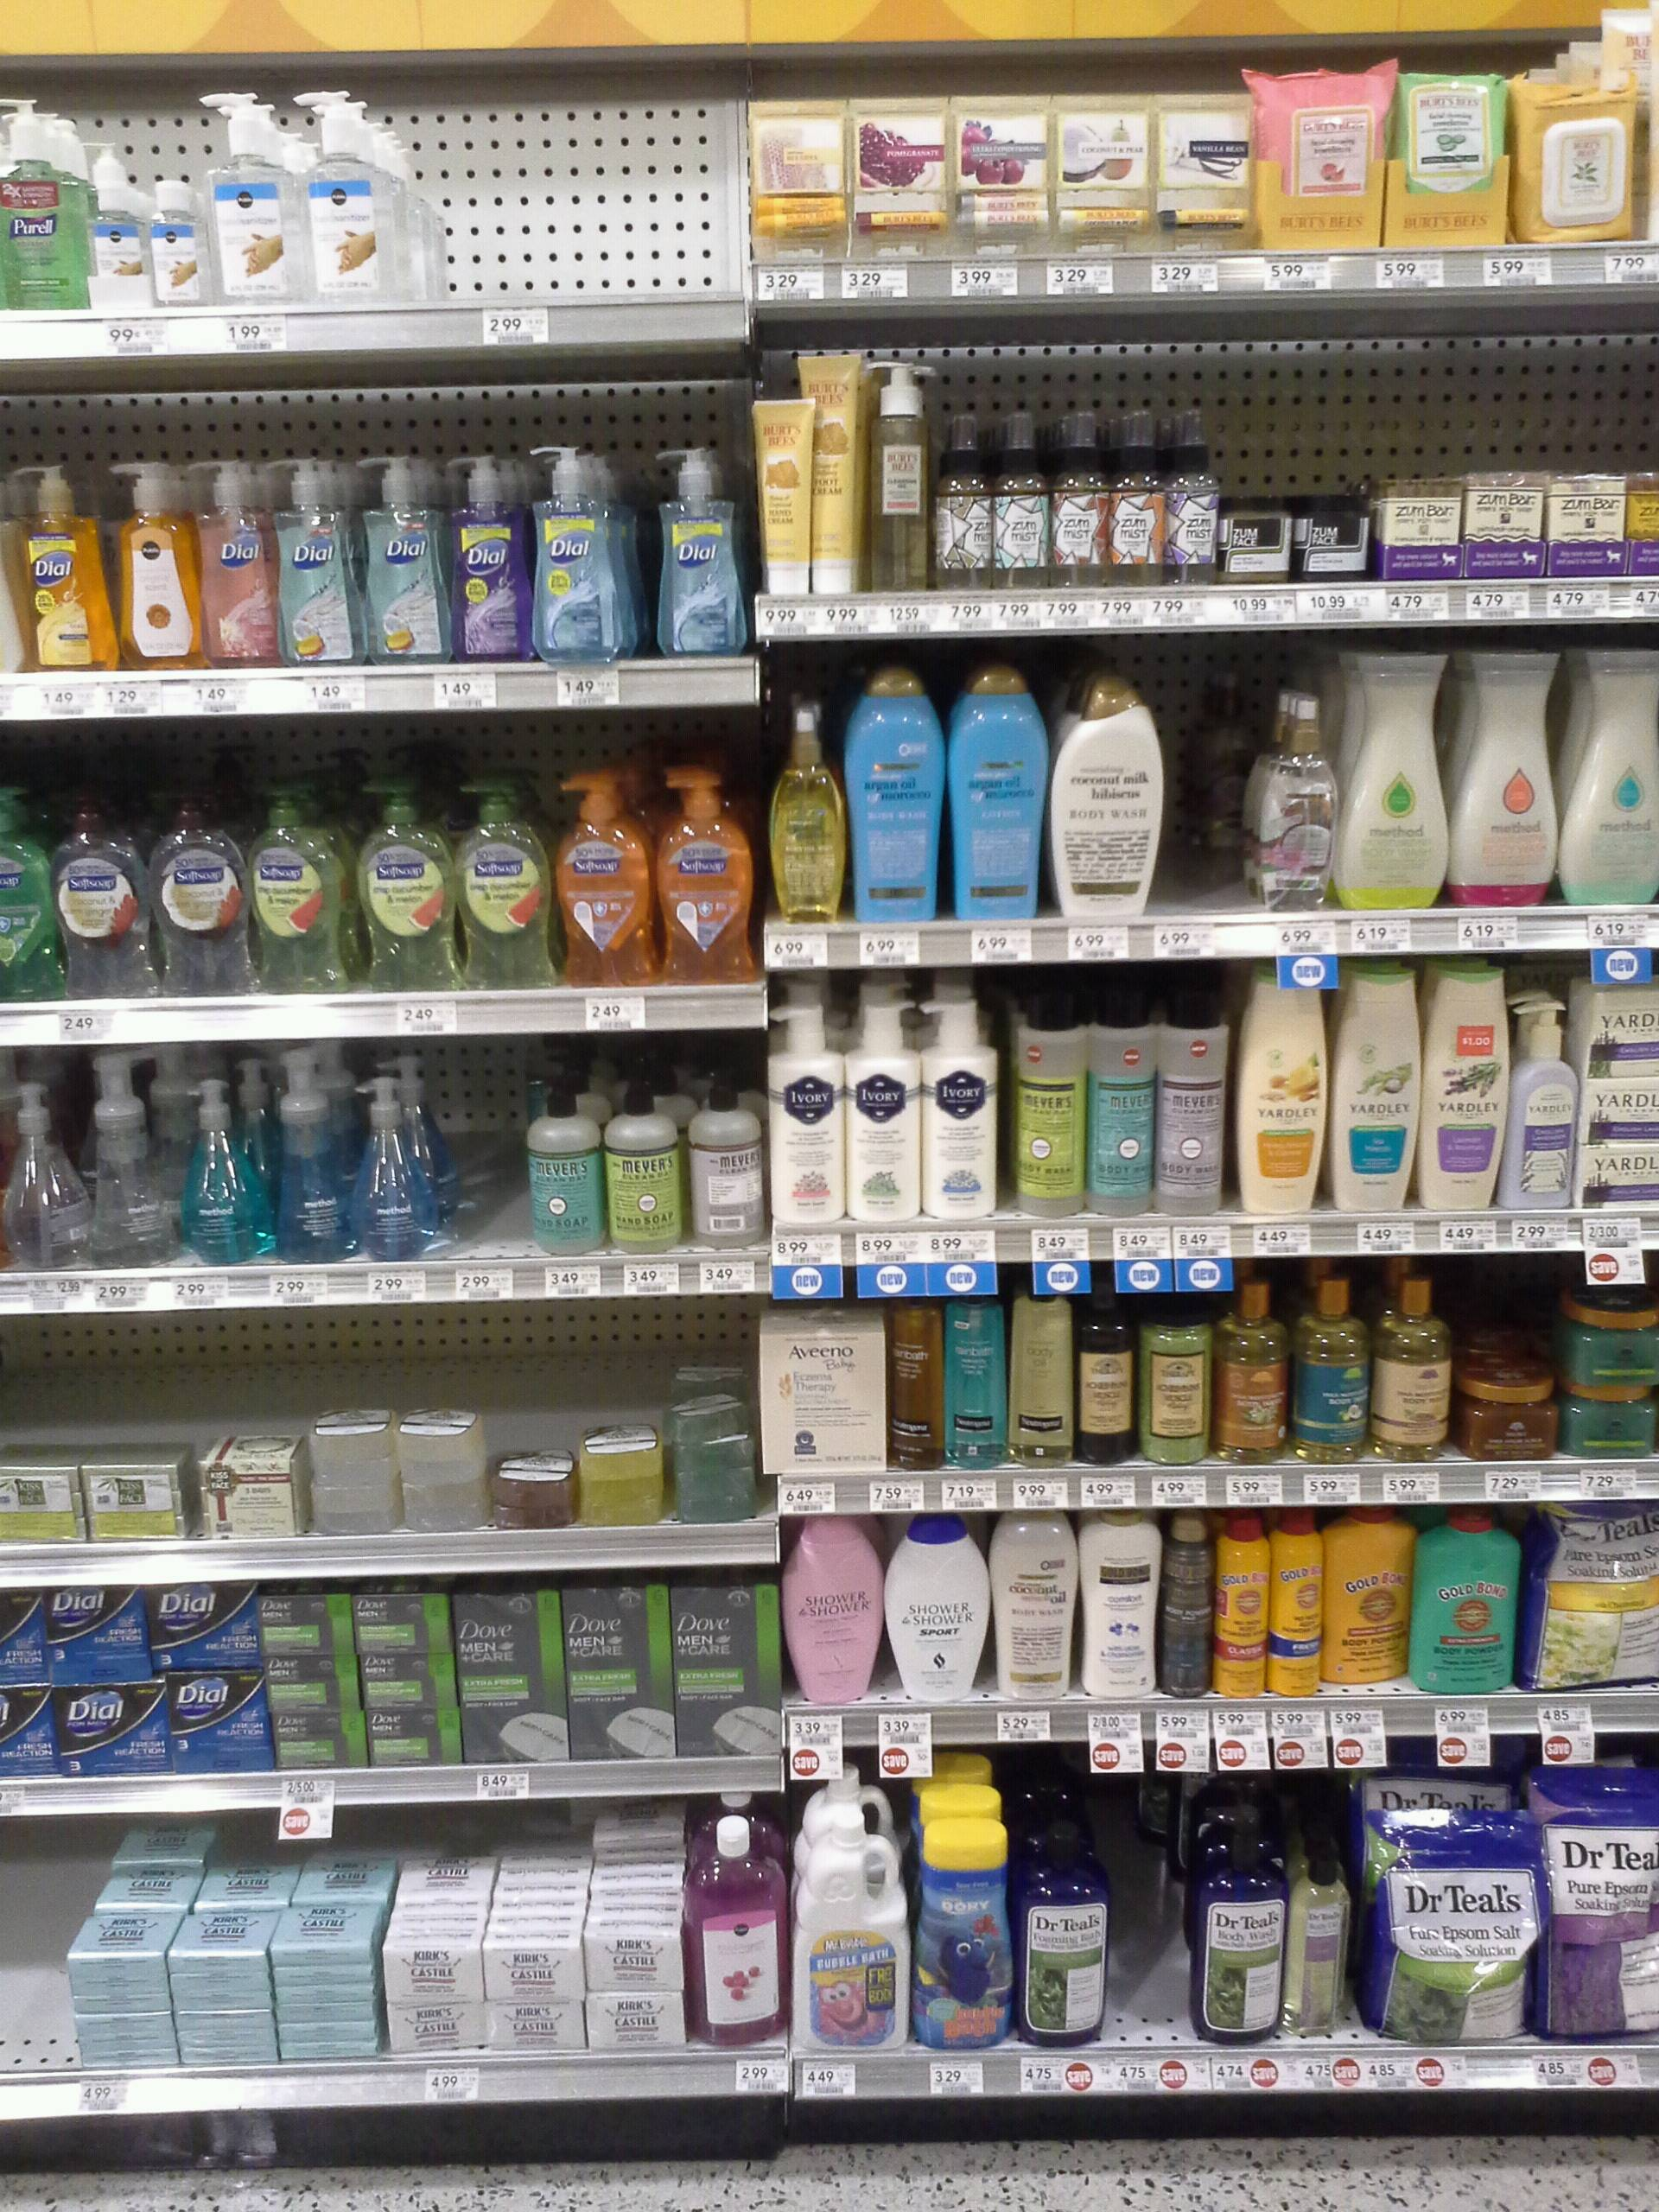Out-of-stock: (445, 95, 743, 300)
